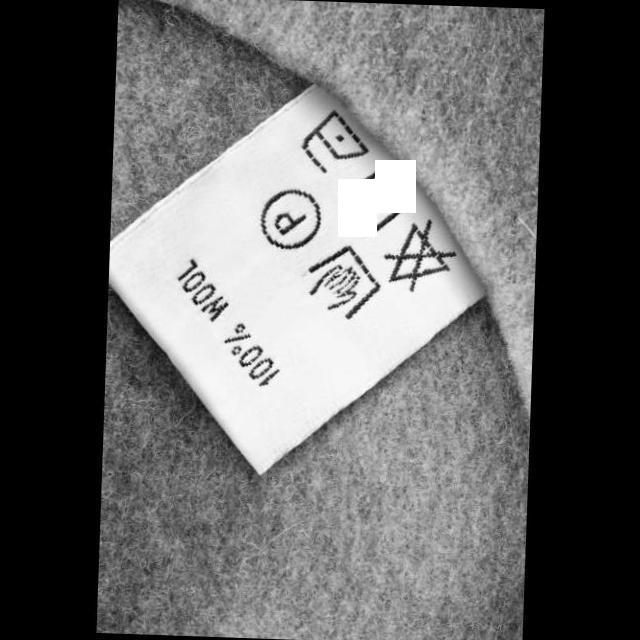DN_bleach: (378, 214, 462, 296)
hand_wash: (300, 237, 385, 325)
iron_low: (295, 103, 374, 178)
normal_dry_clean_solvents: (253, 182, 326, 254)
